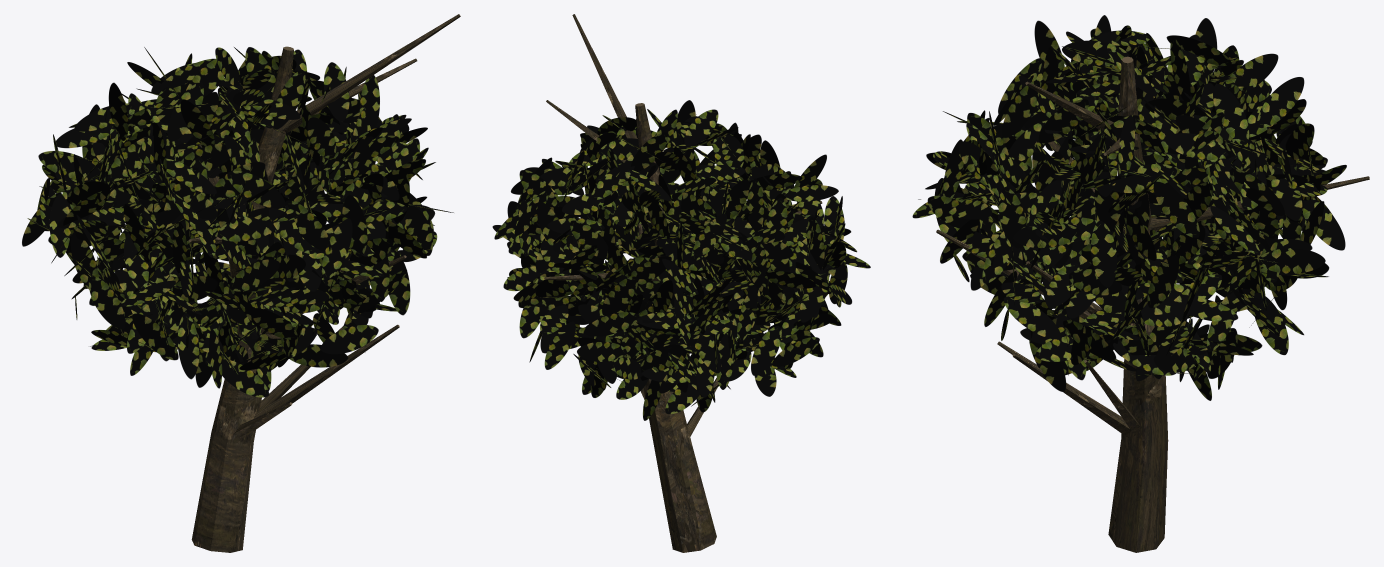
The model's file is krummholz_conifer_01.glb.
3 views of the same model, side by side, from view 1: azimuth 30°, elevation 25°; view 2: azimuth 150°, elevation 25°; view 3: azimuth 270°, elevation 25° (orthographic). The views are drawn at different scales.
Parts seen in each view (by area): view 1: krummholz_conifer_01; view 2: krummholz_conifer_01; view 3: krummholz_conifer_01.
Part boxes in pixels (box(x1,y1,x2,y2)): krummholz_conifer_01: box(22, 14, 460, 552); krummholz_conifer_01: box(492, 14, 870, 552); krummholz_conifer_01: box(912, 15, 1369, 552).
Size of the model in its own units: 1.98 by 2.62 by 1.98.
2 materials, 2 textured.
